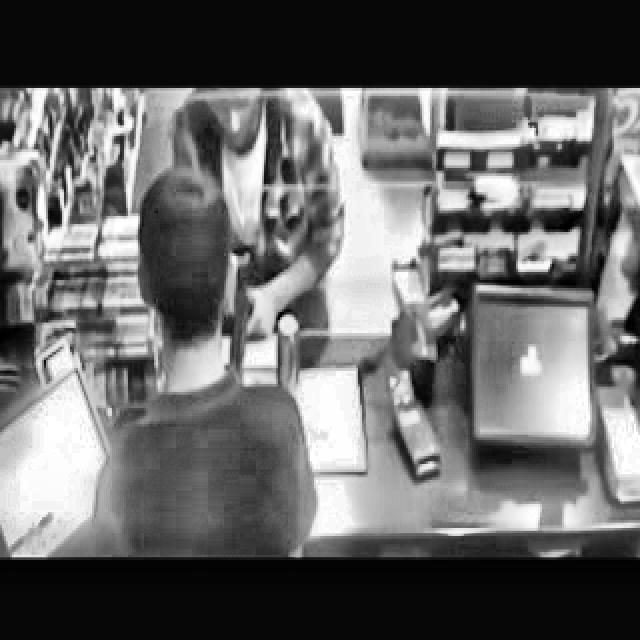robbery: (168, 88, 353, 393)
